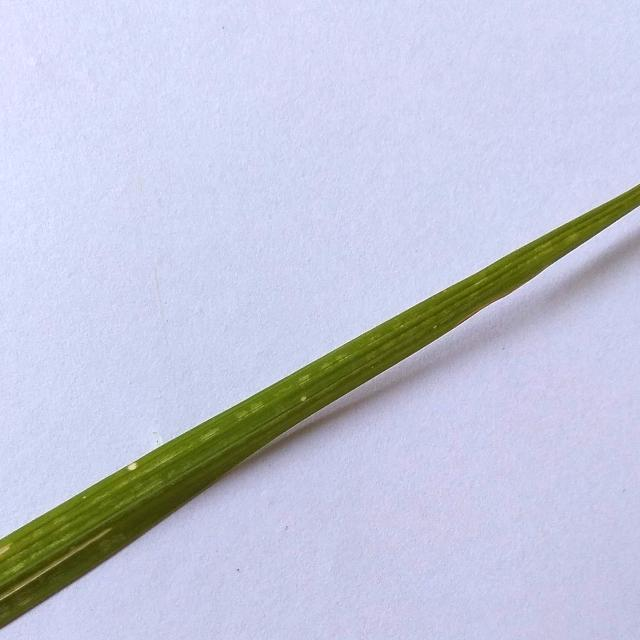Blast: (298, 392, 316, 404), (126, 460, 140, 474)
